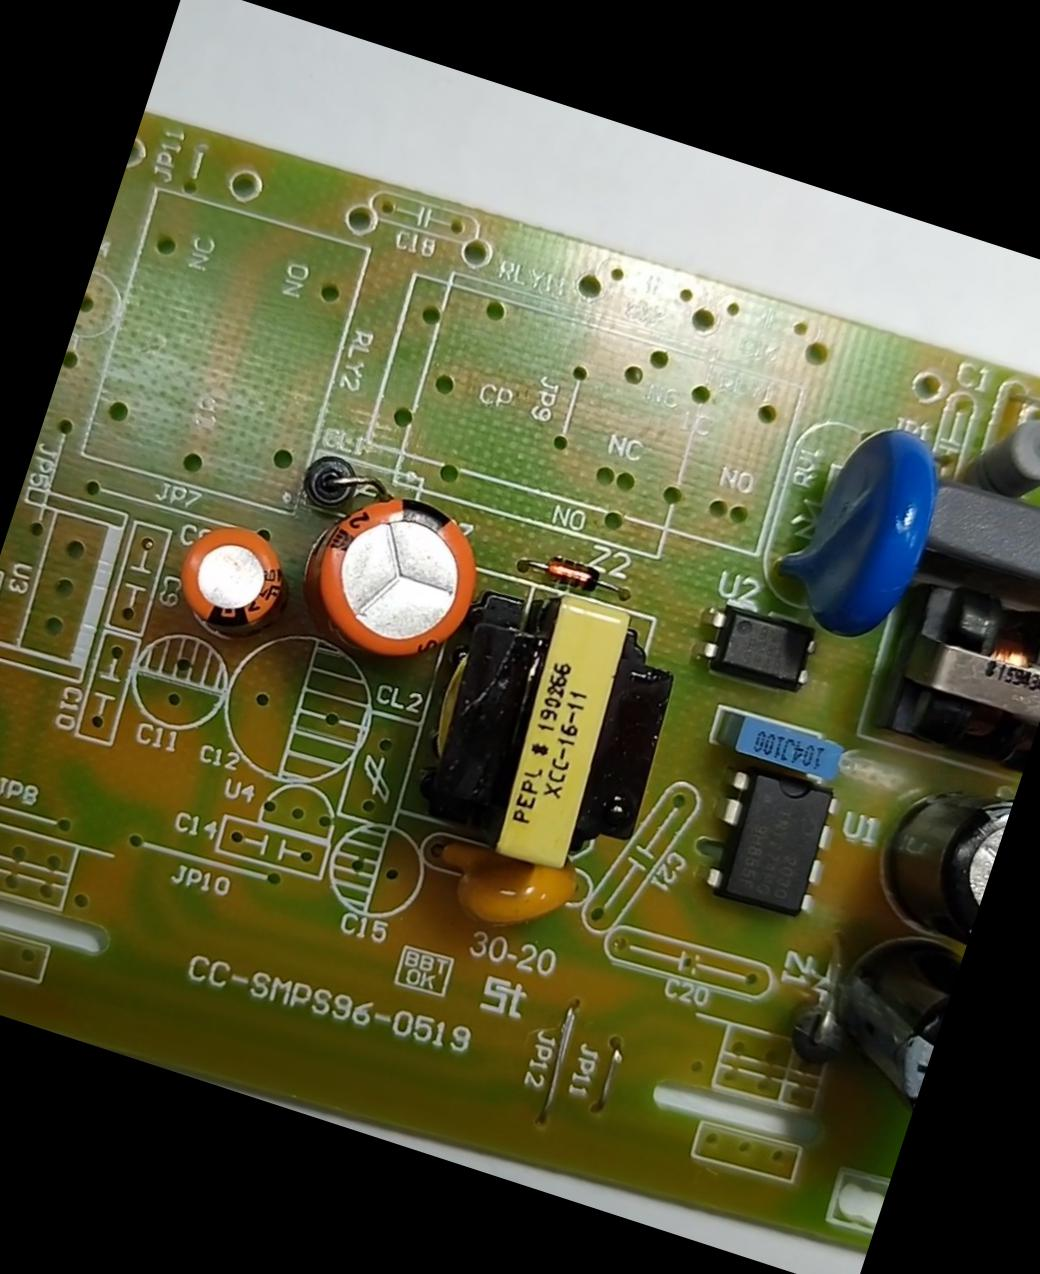Cap1: (288, 473, 495, 675)
Cap2: (164, 512, 294, 642)
Cap3: (852, 757, 1015, 951)
Cap4: (801, 912, 965, 1130)
MOSFET: (694, 753, 847, 925)
Mov: (753, 401, 960, 655)
Resistor: (959, 397, 1039, 516)
Transformer: (402, 564, 705, 893), (868, 560, 1039, 776)
